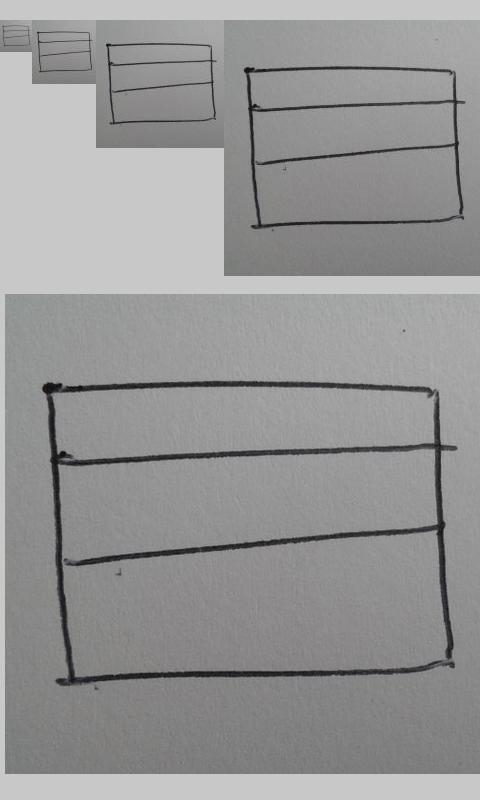list_view: (42, 378, 455, 686), (245, 65, 464, 228), (106, 43, 216, 124), (37, 31, 93, 73), (2, 24, 31, 47)
